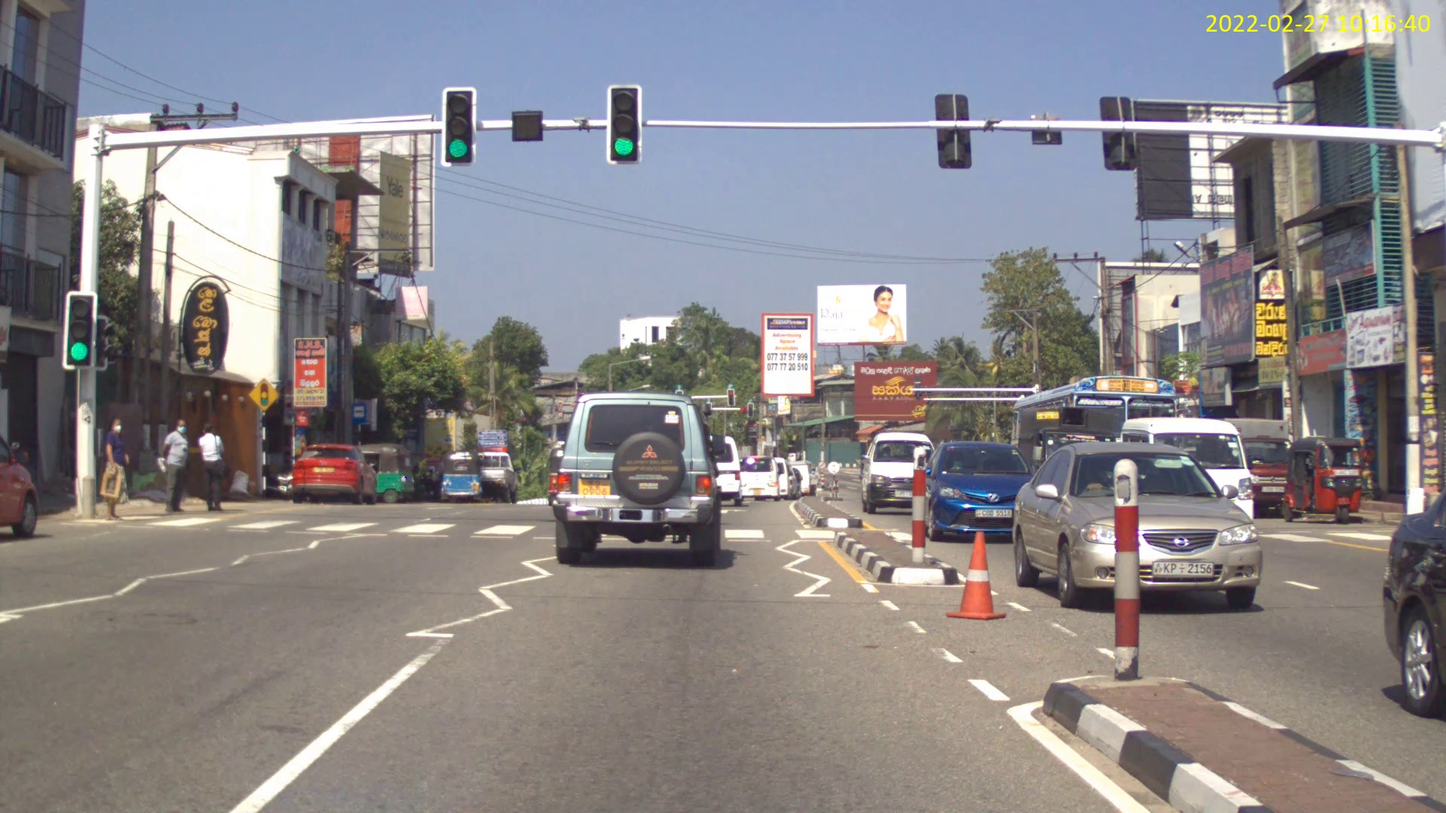green: (604, 84, 641, 164), (440, 86, 475, 166), (62, 290, 95, 370)
yellow: (511, 110, 543, 141)
